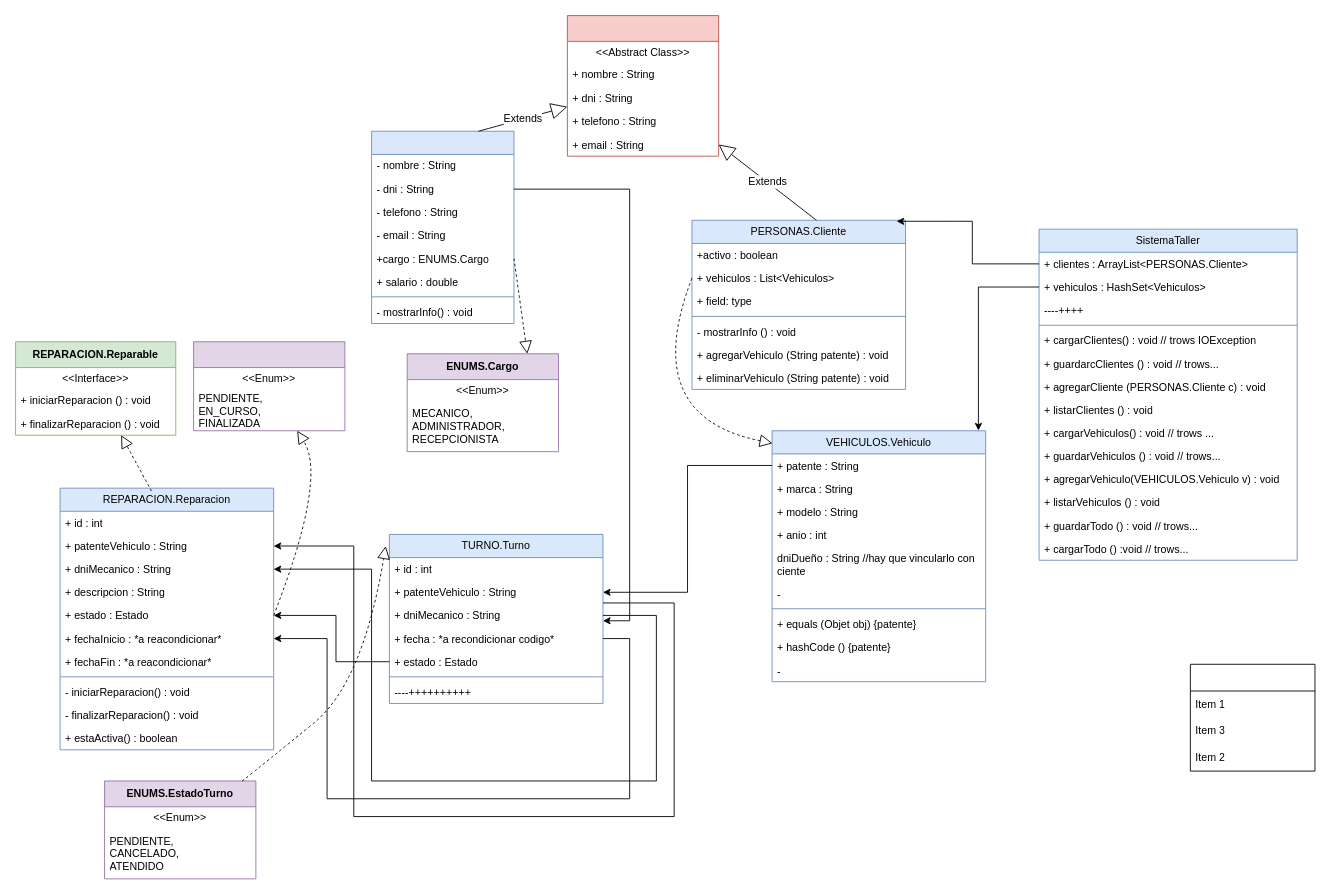
Some shapes in this 1331 by 894 pixel diagram are drawn without their labels. Here are the shapes that lost their labels. From the top down, the box of each, then its label:
(566, 15, 719, 156): PERSONAS.Persona
(371, 130, 514, 324): PERSONAS.Empleado
(193, 341, 345, 431): ENUMS.EstadoReparacion
(1189, 663, 1315, 771): List
